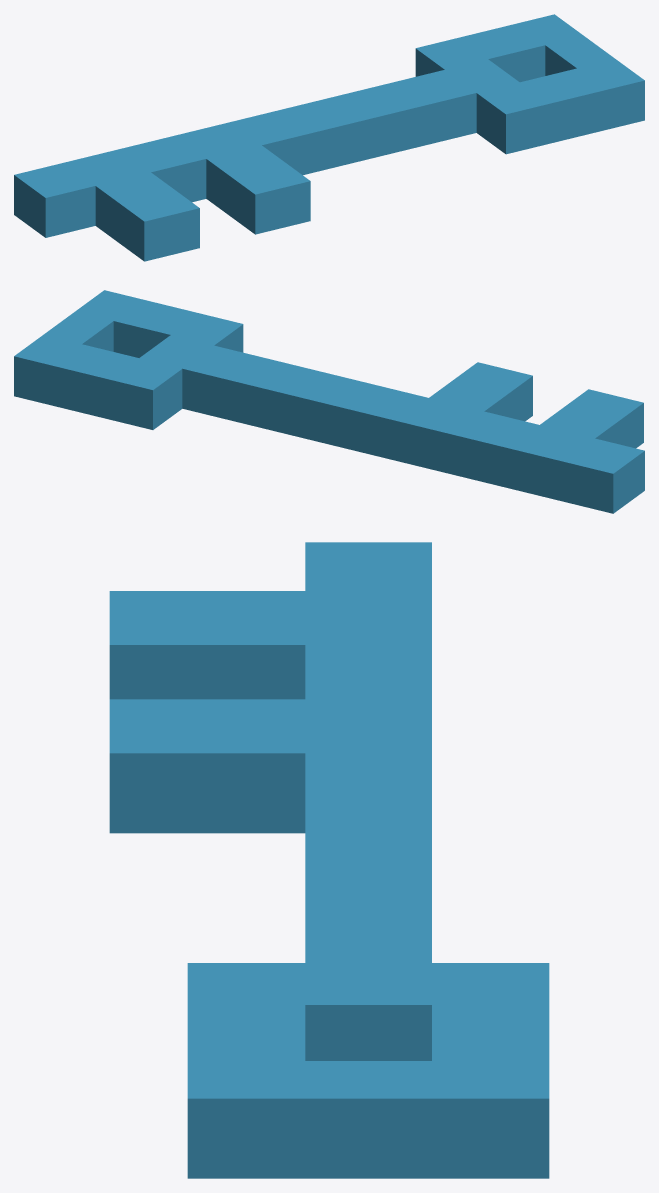
File: Key.fbx
The picture shows the model from 3 angles, top to bottom: view 1: azimuth 30°, elevation 25°; view 2: azimuth 150°, elevation 25°; view 3: azimuth 270°, elevation 25°; orthographic projection. The views are drawn at different scales.
Parts seen in each view (by area): view 1: Key; view 2: Key; view 3: Key.
Part boxes in pixels (<box>): Key: <box>14,14,644,261</box>; Key: <box>14,290,644,513</box>; Key: <box>109,542,549,1178</box>.
Size of the model in its own units: 14.91 by 1 by 4.98.
